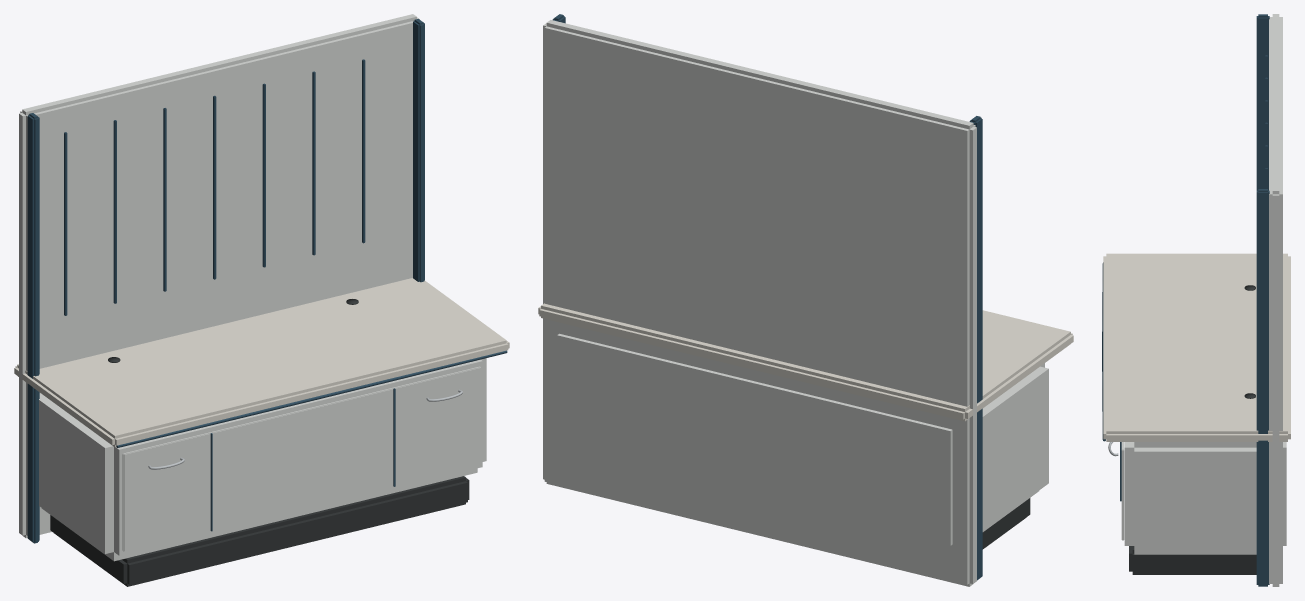
File: fixture_electronics_wall.glb
3 renders of one model, left to right at view 1: azimuth 30°, elevation 25°; view 2: azimuth 150°, elevation 25°; view 3: azimuth 270°, elevation 25°, orthographic. The views are drawn at different scales.
Visible parts, largest first — view 1: fixture_electronics_wall_FY21_porcelain_joinery, fixture_electronics_wall_Honed_solid_surface, fixture_electronics_wall_FY21_electronics_edge, fixture_electronics_wall_Anodised_graphite; view 2: fixture_electronics_wall_FY21_porcelain_joinery, fixture_electronics_wall_Honed_solid_surface, fixture_electronics_wall_FY21_electronics_edge, fixture_electronics_wall_Anodised_graphite; view 3: fixture_electronics_wall_Honed_solid_surface, fixture_electronics_wall_FY21_porcelain_joinery, fixture_electronics_wall_FY21_electronics_edge, fixture_electronics_wall_Anodised_graphite.
Part boxes in pixels (x1,y1,x2,y2): fixture_electronics_wall_FY21_porcelain_joinery: (19, 14, 486, 561); fixture_electronics_wall_Honed_solid_surface: (14, 278, 509, 447); fixture_electronics_wall_FY21_electronics_edge: (27, 19, 507, 543); fixture_electronics_wall_Anodised_graphite: (50, 299, 469, 586); fixture_electronics_wall_FY21_porcelain_joinery: (543, 20, 1048, 586); fixture_electronics_wall_Honed_solid_surface: (538, 303, 1073, 421); fixture_electronics_wall_FY21_electronics_edge: (552, 14, 982, 580); fixture_electronics_wall_Anodised_graphite: (982, 498, 1030, 549); fixture_electronics_wall_Honed_solid_surface: (1103, 253, 1290, 441); fixture_electronics_wall_FY21_porcelain_joinery: (1121, 14, 1286, 586); fixture_electronics_wall_FY21_electronics_edge: (1102, 14, 1269, 586); fixture_electronics_wall_Anodised_graphite: (1129, 285, 1256, 574).
Bounding box in the file's own units: 2 × 2.05 × 0.886.
